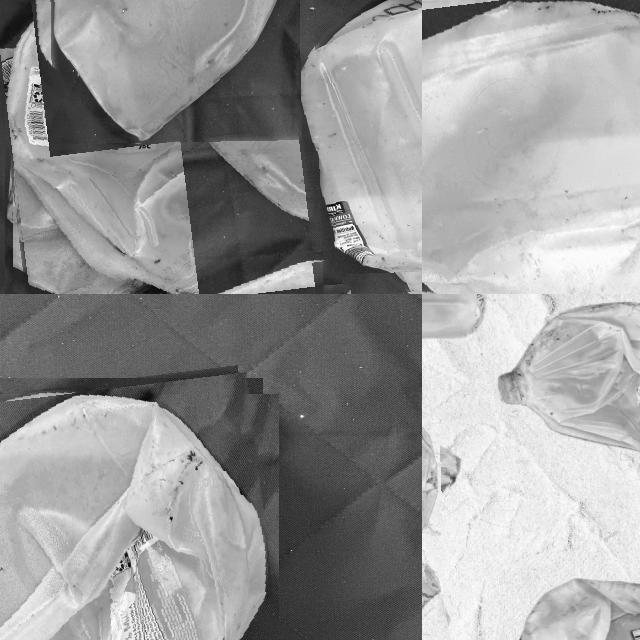milk-jug: (0, 0, 350, 294), (0, 374, 282, 640), (422, 0, 640, 294), (48, 0, 332, 142), (315, 0, 422, 290), (497, 306, 640, 448), (504, 571, 640, 640), (422, 294, 488, 345), (422, 424, 450, 527)
